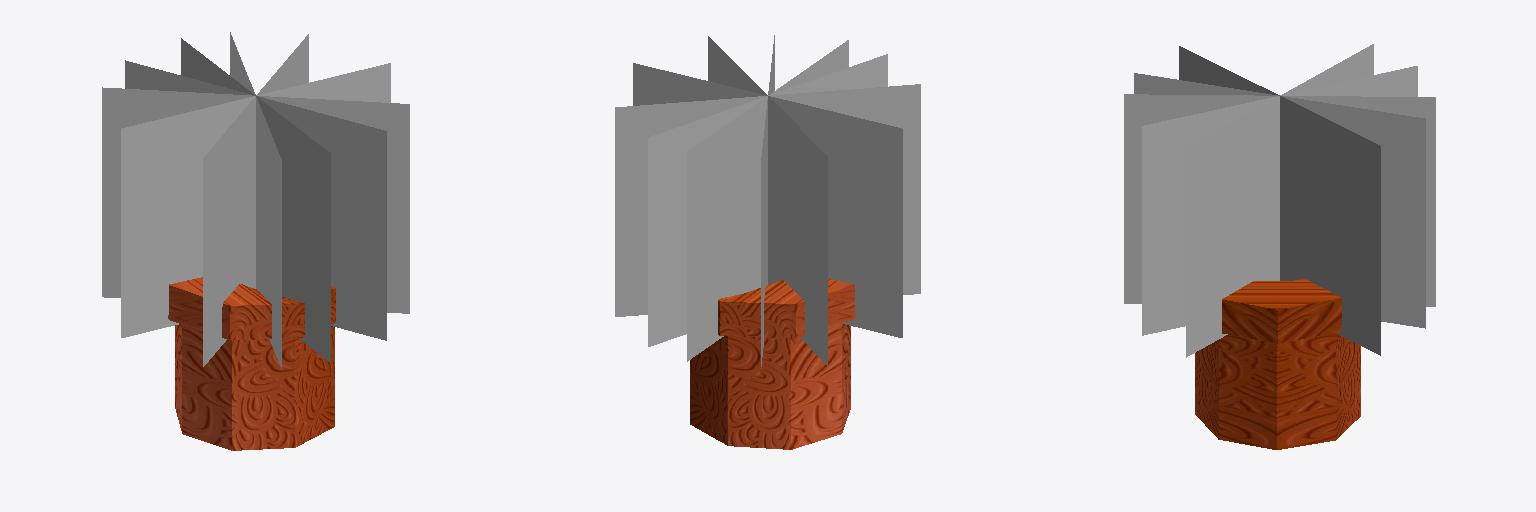
3 renders of one model, left to right at view 1: azimuth 30°, elevation 25°; view 2: azimuth 150°, elevation 25°; view 3: azimuth 270°, elevation 25°, orthographic.
Parts seen in each view (by area): view 1: plant, body; view 2: plant, body; view 3: plant, body.
Part boxes in pixels (left/top/right/bottom): plant: left=102, top=32, right=409, bottom=368; body: left=168, top=277, right=335, bottom=450; plant: left=615, top=35, right=920, bottom=366; body: left=690, top=279, right=855, bottom=449; plant: left=1124, top=44, right=1435, bottom=357; body: left=1195, top=279, right=1360, bottom=449.
Bounding box in the file's own units: 31.65 × 35.98 × 31.64.
2 materials, 1 textured.